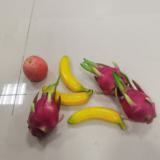apple: (23, 56, 49, 81)
pitaya: (82, 59, 134, 97), (115, 79, 158, 123), (29, 88, 63, 138)
